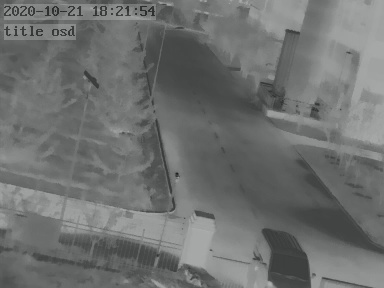vehicle: (250, 227, 311, 288)
